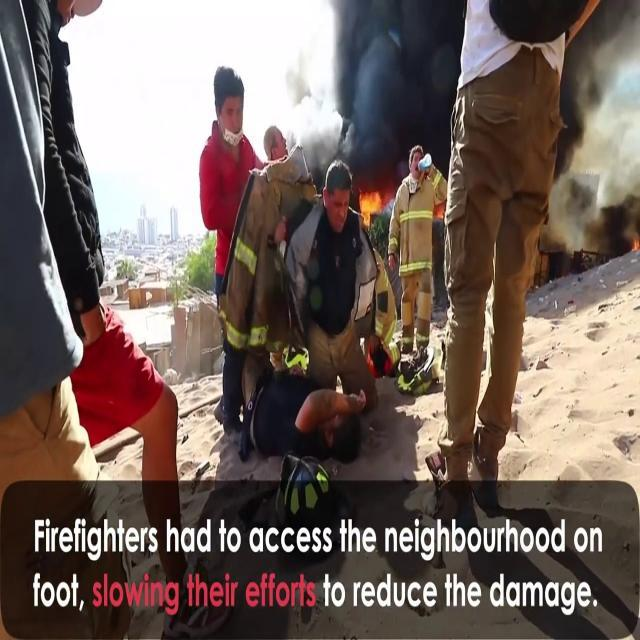Fire: (357, 182, 385, 225)
Smoke: (546, 2, 640, 256), (316, 0, 451, 169)
